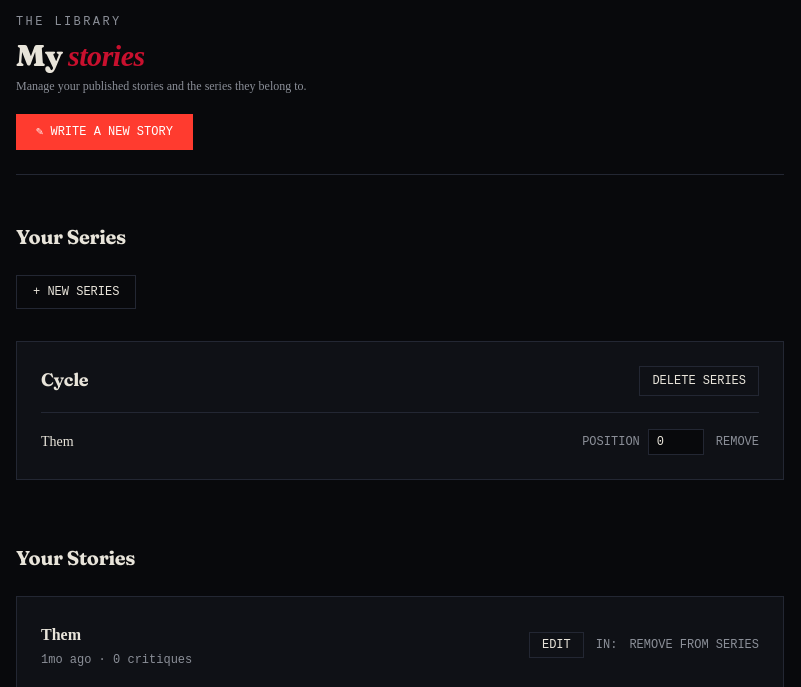
it: says stories are already in a series only when that is true
The image size is (801, 687).
Click the button "+ New Series" at [76, 292], box [16, 275, 136, 309]
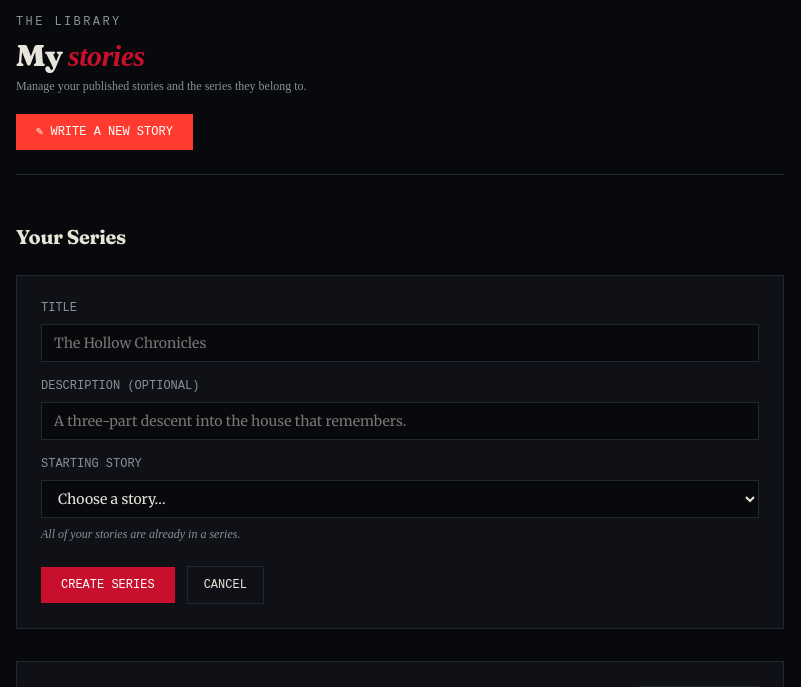
Expected: the text "All of your stories are already in a series." is shown, [41, 527, 240, 541]
